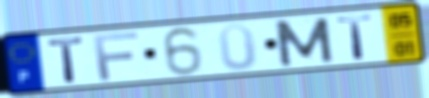0: (216, 22, 260, 73)
6: (162, 25, 206, 77)
F: (91, 30, 141, 83)
M: (271, 15, 337, 68)
T: (334, 13, 377, 62), (46, 35, 87, 84)
